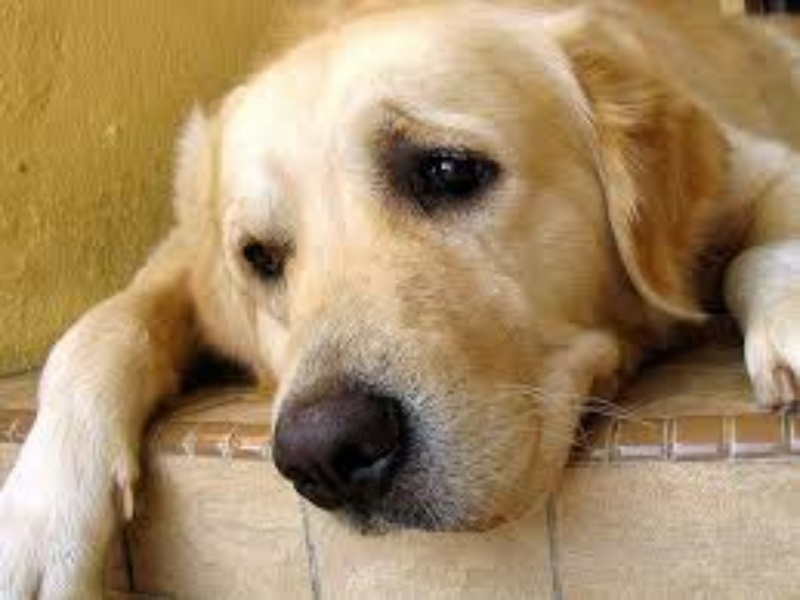dog: (21, 7, 800, 558)
